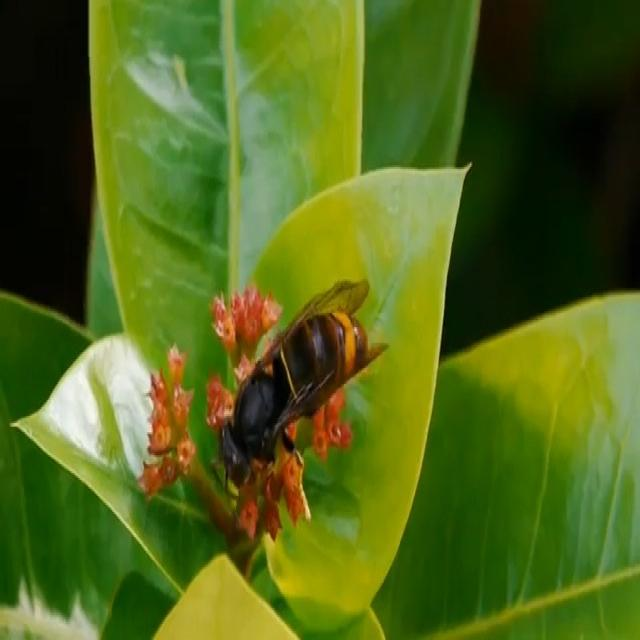Hornets: (209, 270, 392, 495)
